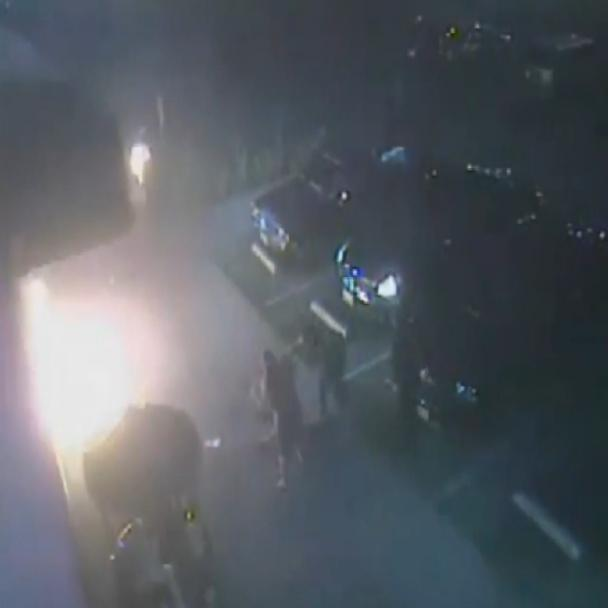Fire: (0, 280, 189, 449)
